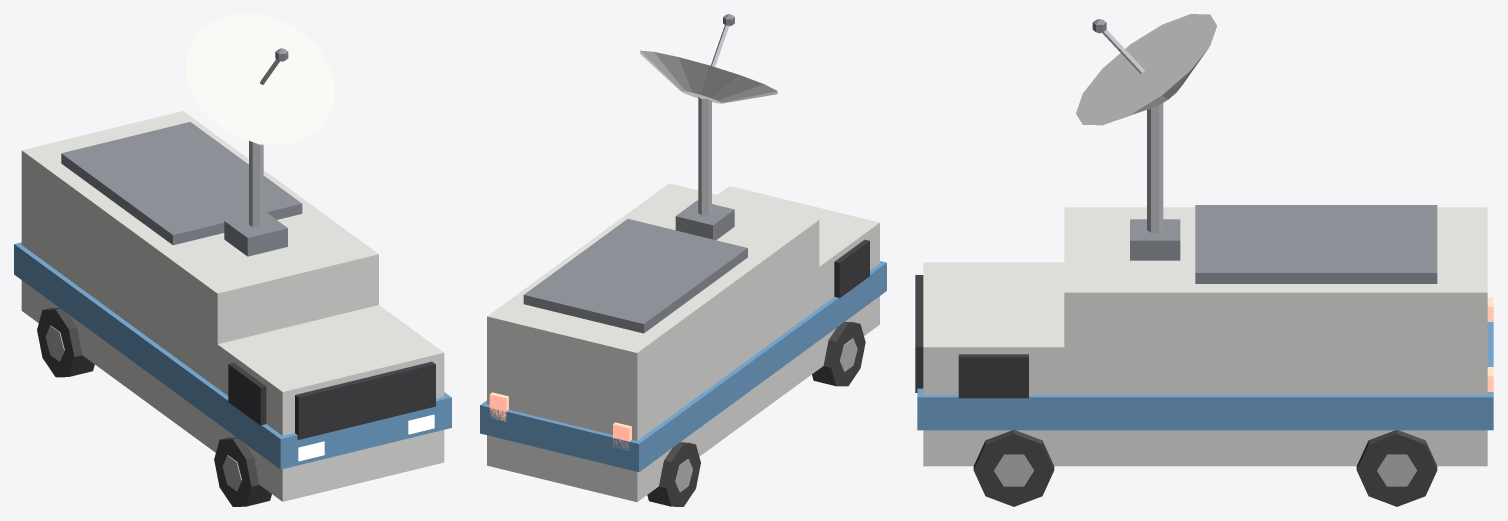
File: news_van.glb
The picture shows the model from 3 angles, left to right: view 1: azimuth 30°, elevation 25°; view 2: azimuth 150°, elevation 25°; view 3: azimuth 270°, elevation 25°; orthographic projection. The views are drawn at different scales.
Parts seen in each view (by area): view 1: news_van; view 2: news_van; view 3: news_van.
Boxes of the visible parts, bbox=[...] form: news_van: bbox=[14, 14, 451, 506]; news_van: bbox=[480, 14, 886, 506]; news_van: bbox=[915, 14, 1493, 506].
Bounding box in the file's own units: 2.22 × 4.83 × 5.74.
